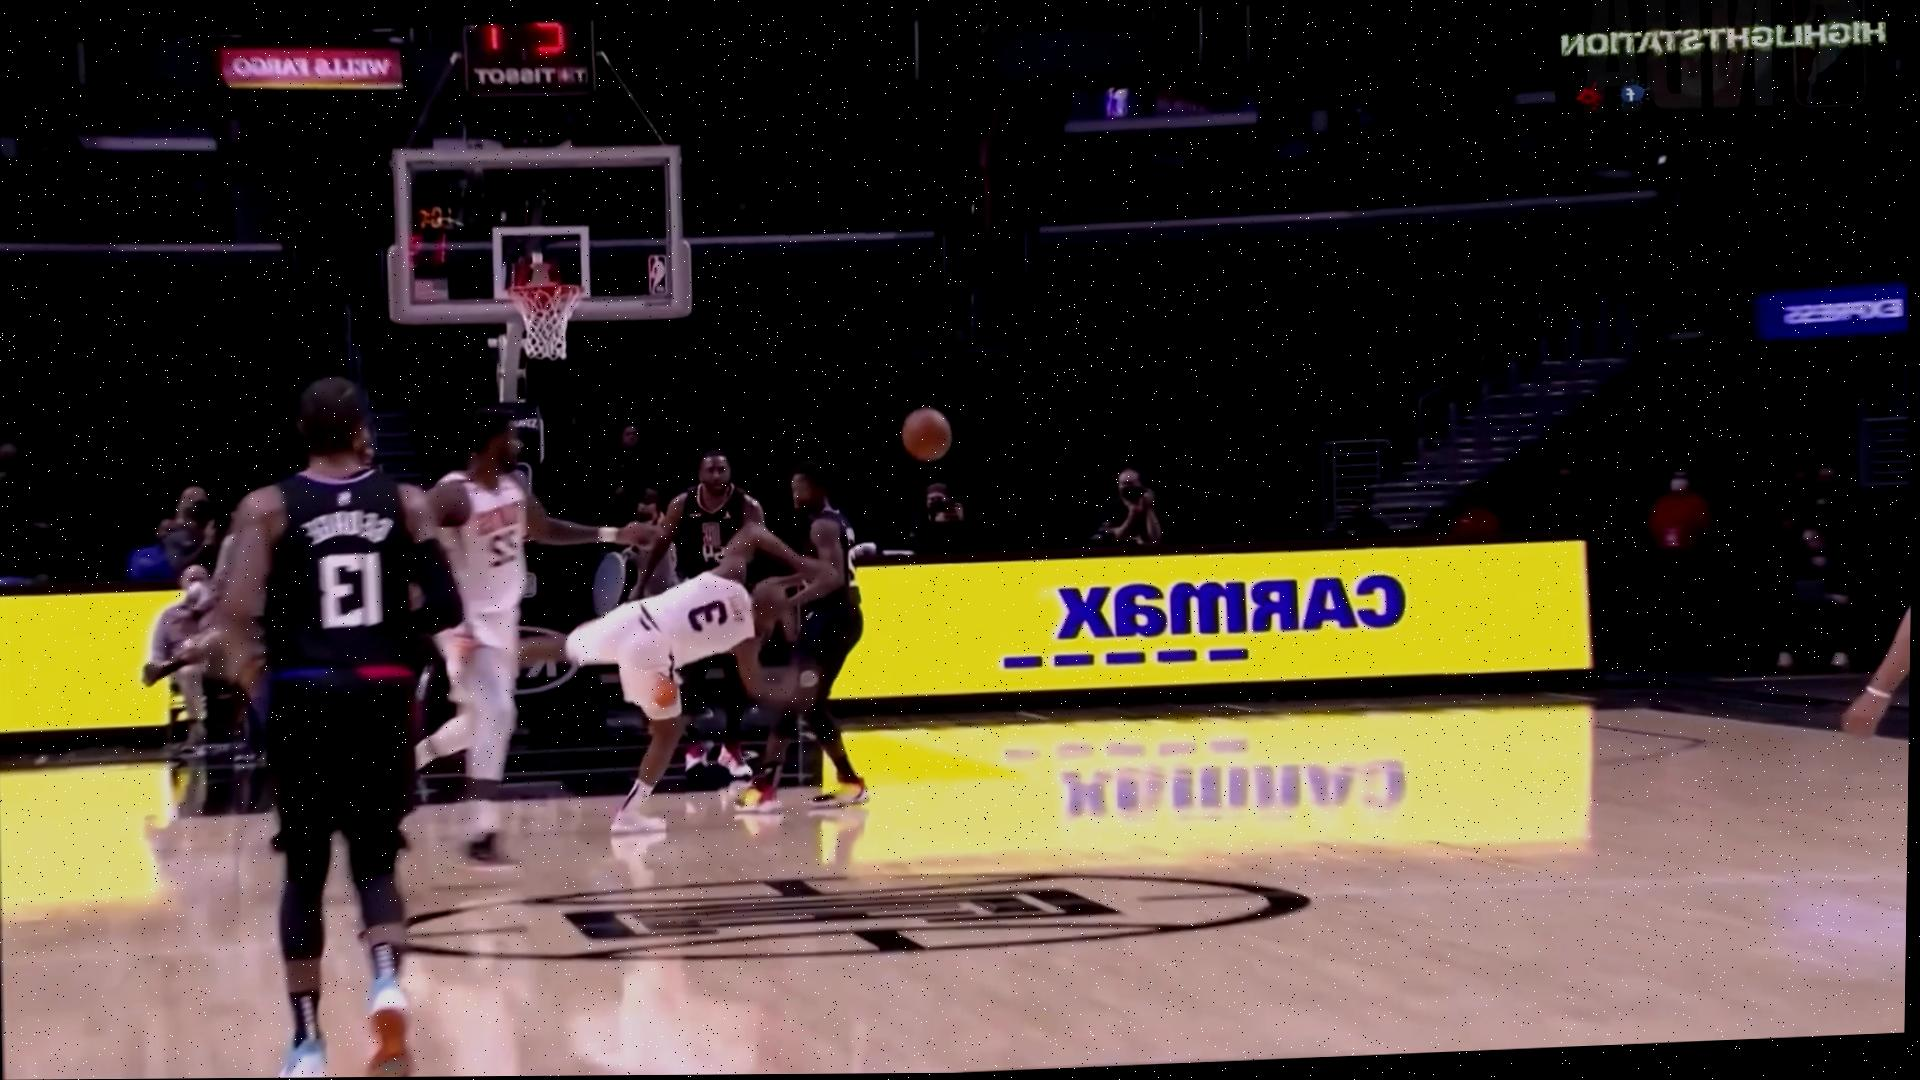foul: (563, 463, 922, 818)
